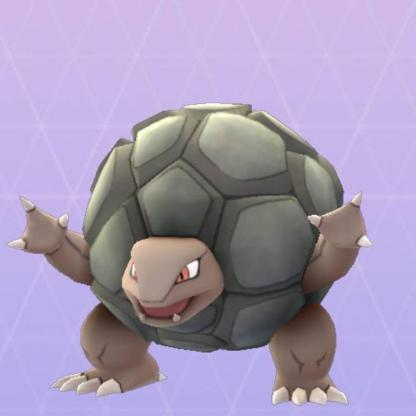Golem: (16, 105, 371, 407)
